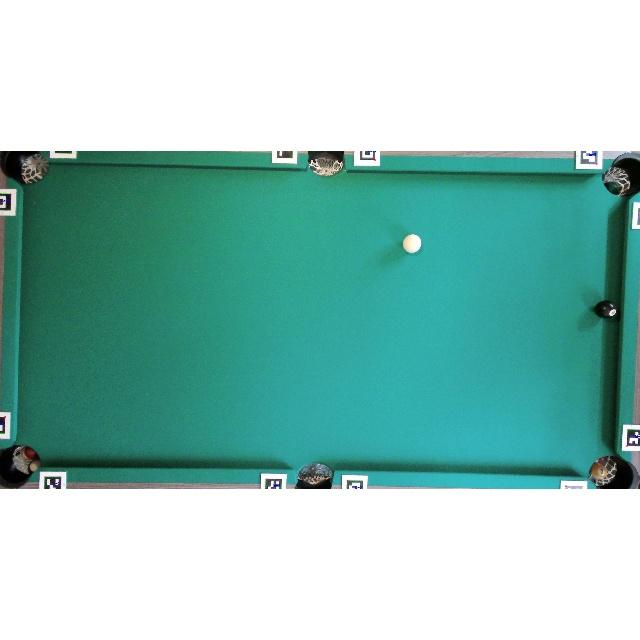cue ball: (402, 234, 422, 254)
other: (594, 299, 618, 319)
